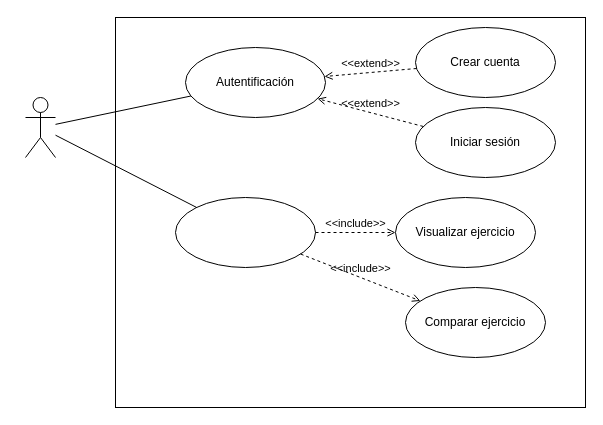
Image size: 603x425. Some labels were removed from this diagram. Each missing label, with the box of its shape:
Paciente: (24, 96, 56, 158)
Seleccionar ejercicio: (174, 196, 316, 268)
